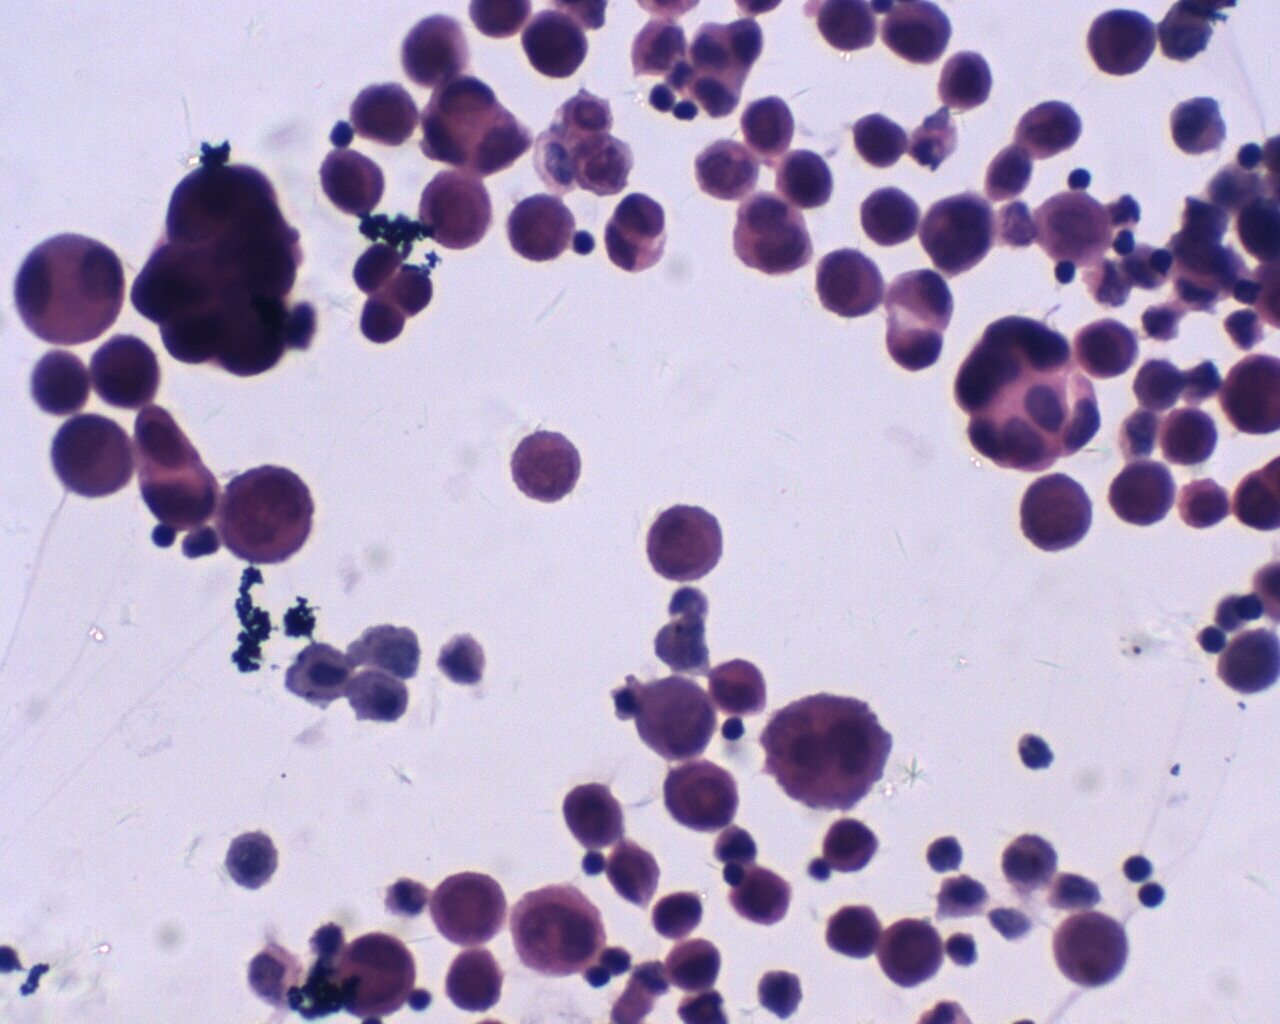ab: (759, 689, 895, 814), (507, 880, 613, 981), (218, 461, 315, 564), (627, 677, 715, 763), (645, 499, 724, 581), (920, 188, 995, 274), (1034, 187, 1113, 266), (1055, 908, 1128, 991), (813, 243, 890, 321), (661, 757, 740, 833), (505, 426, 581, 504), (429, 872, 509, 947), (1022, 473, 1091, 555), (418, 173, 490, 250), (344, 78, 421, 147), (1083, 9, 1158, 77), (561, 776, 627, 853), (1107, 456, 1174, 529), (505, 192, 573, 265), (878, 917, 946, 991), (311, 148, 385, 216), (22, 349, 89, 423), (92, 336, 161, 408), (859, 183, 927, 249), (730, 865, 795, 930)
lymph: (1122, 854, 1151, 882), (1139, 881, 1167, 909), (572, 225, 594, 258)
meso: (11, 230, 124, 343), (1177, 475, 1236, 535)
